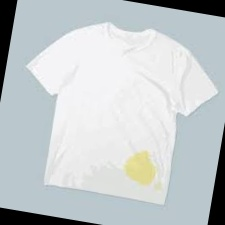mustard: (123, 146, 159, 185), (155, 180, 165, 193)
